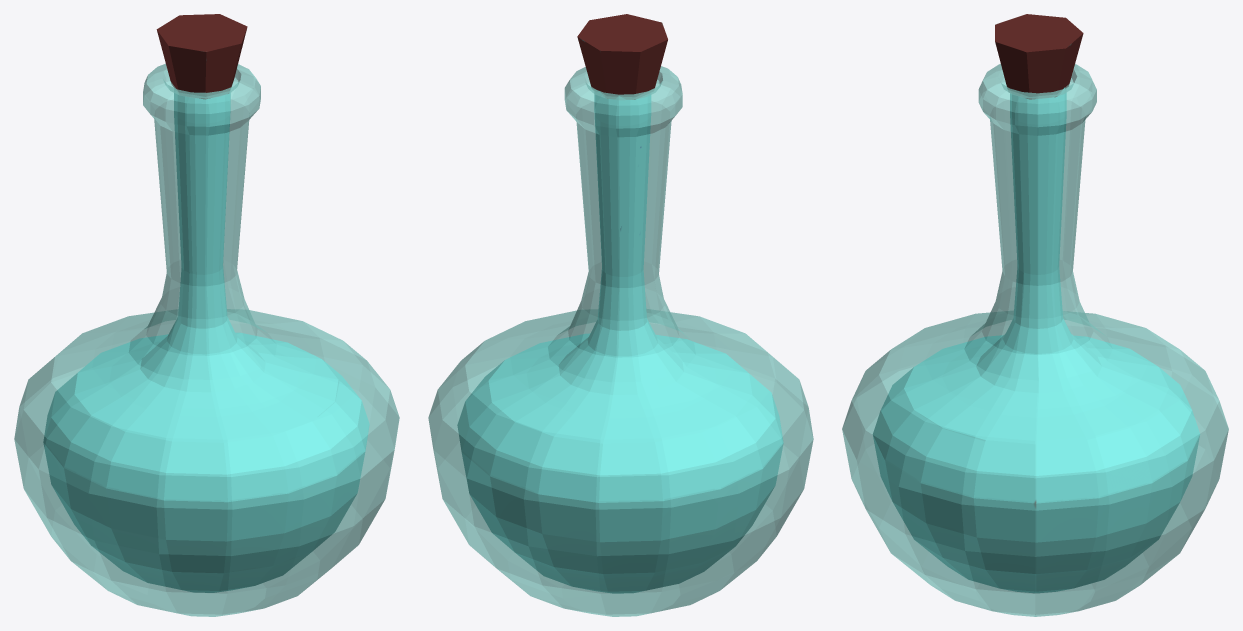
File: Fairy Tear.fbx
The picture shows the model from 3 angles, left to right: view 1: azimuth 30°, elevation 25°; view 2: azimuth 150°, elevation 25°; view 3: azimuth 270°, elevation 25°; orthographic projection.
Parts seen in each view (by area): view 1: Fairy Tears; view 2: Fairy Tears; view 3: Fairy Tears.
Boxes of the visible parts, left/top/right/bottom form: Fairy Tears: left=14, top=14, right=399, bottom=616; Fairy Tears: left=428, top=14, right=813, bottom=616; Fairy Tears: left=842, top=14, right=1228, bottom=616.
Bounding box in the file's own units: 423 × 672 × 423.
